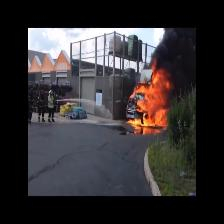fire: (135, 79, 167, 124)
smoke: (163, 31, 197, 77)
